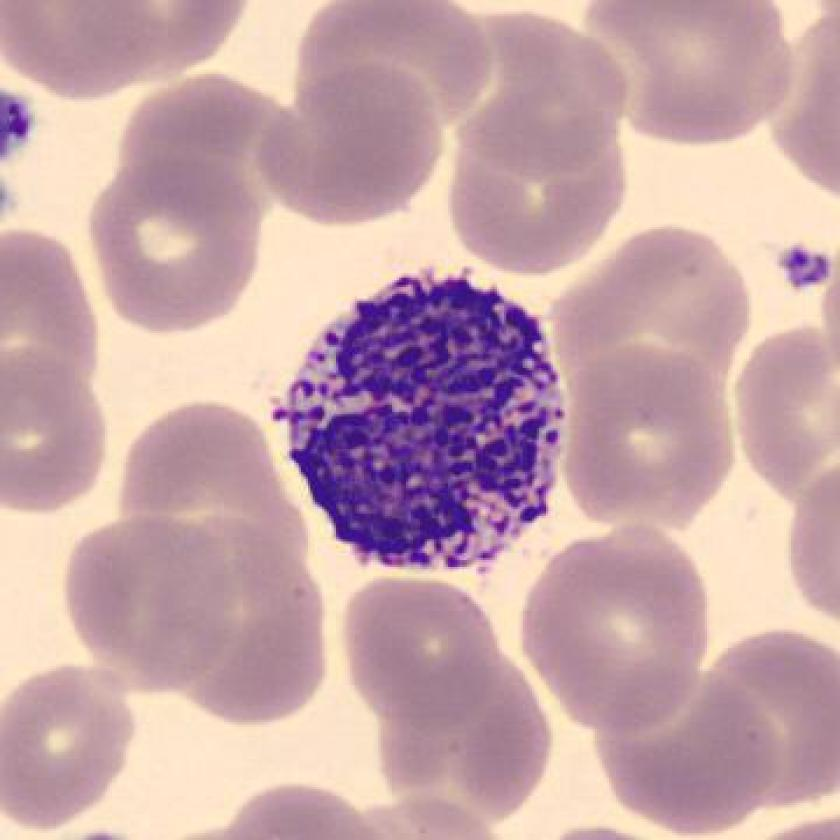basophil: (277, 263, 571, 584)
